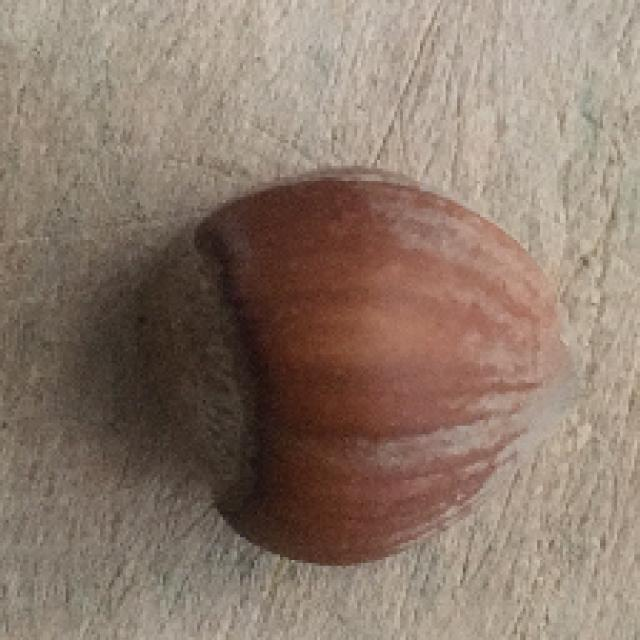qualityHazelnut: (149, 168, 584, 565)
